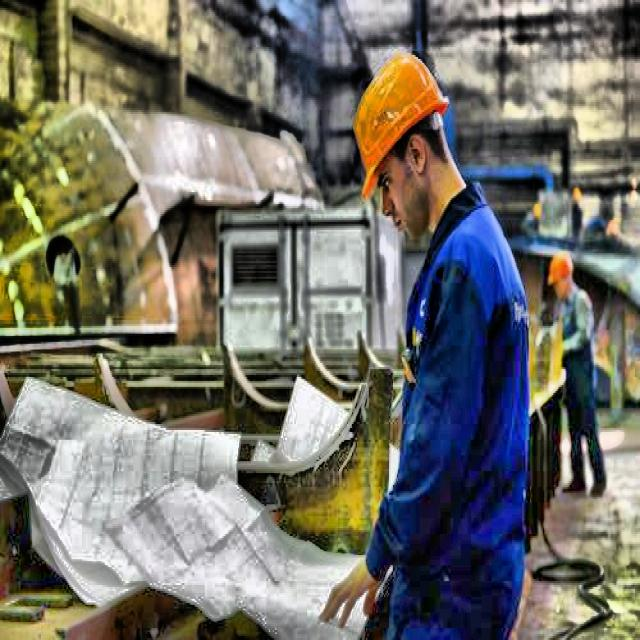helmet: (342, 42, 466, 244), (546, 250, 574, 306)
